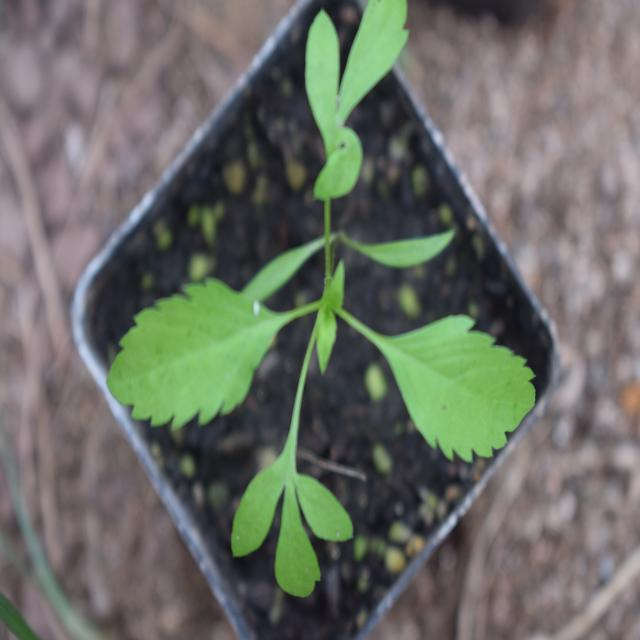Bidens pilosa: (119, 10, 532, 598)
